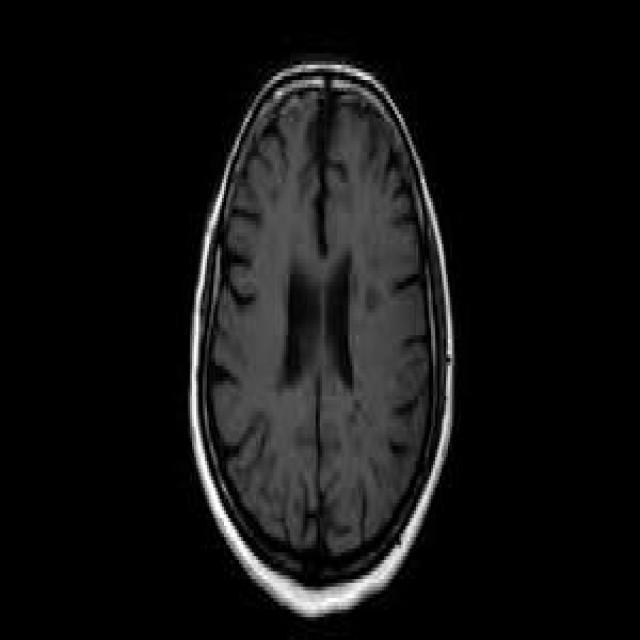notumor: (190, 65, 452, 613)
